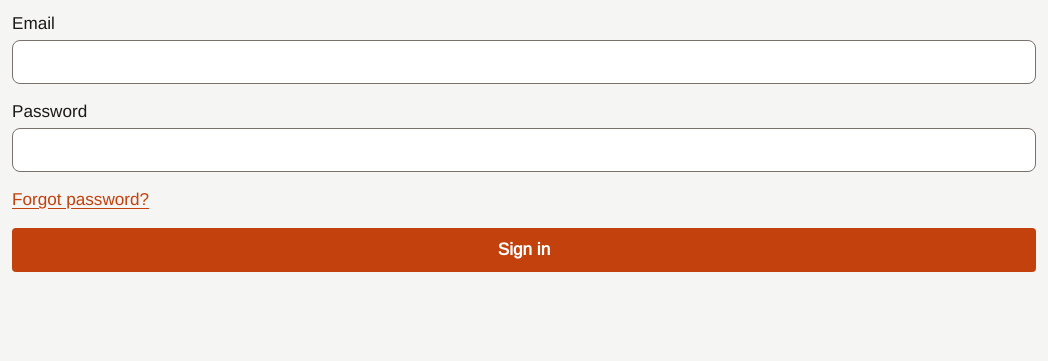
LoginForm › ignores an off-site next and shows translated errors
Step 1. Type "a@b.test" into the field labelled "Email" → (524, 62), box [12,40,1036,84]
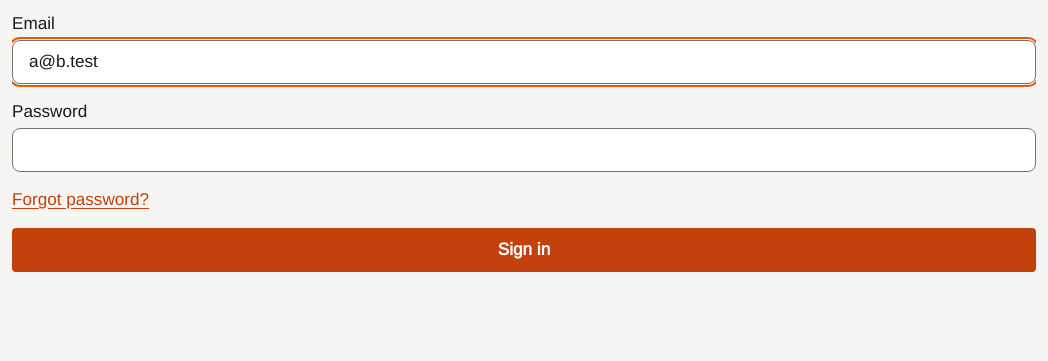
Step 2. Type "wrong" into the password field labelled "Password" → (524, 150), box [12,128,1036,172]
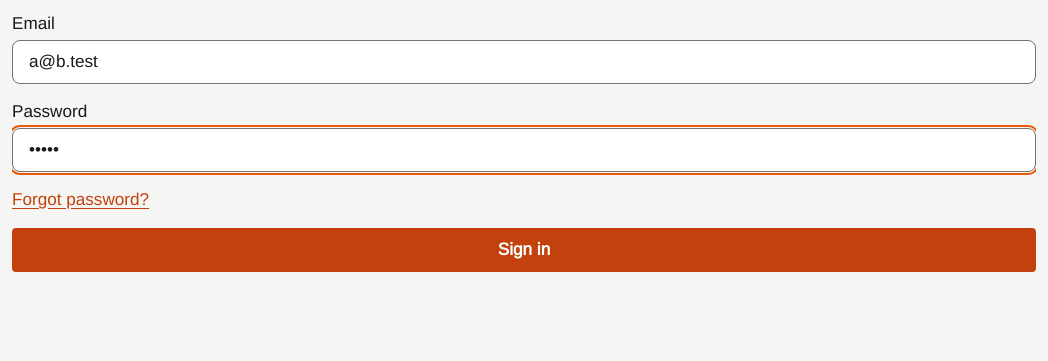
Step 3. Click the button "Sign in" → click(524, 250), box [12,228,1036,272]
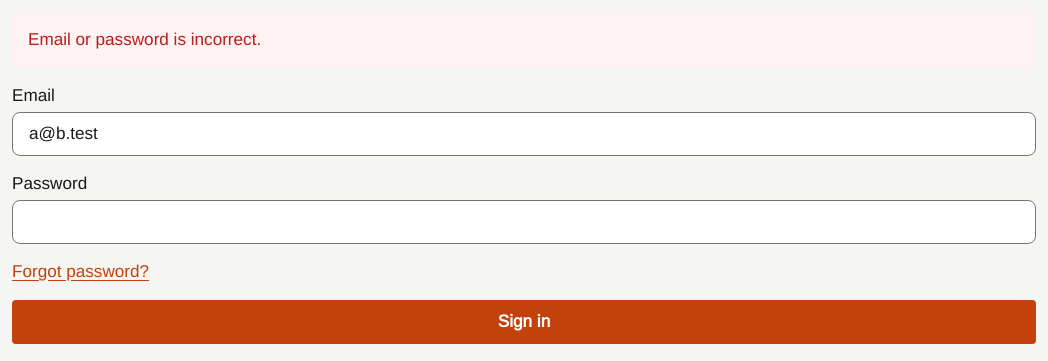
Expected: the message reads "Email or password is incorrect.", [28,30,261,49]
